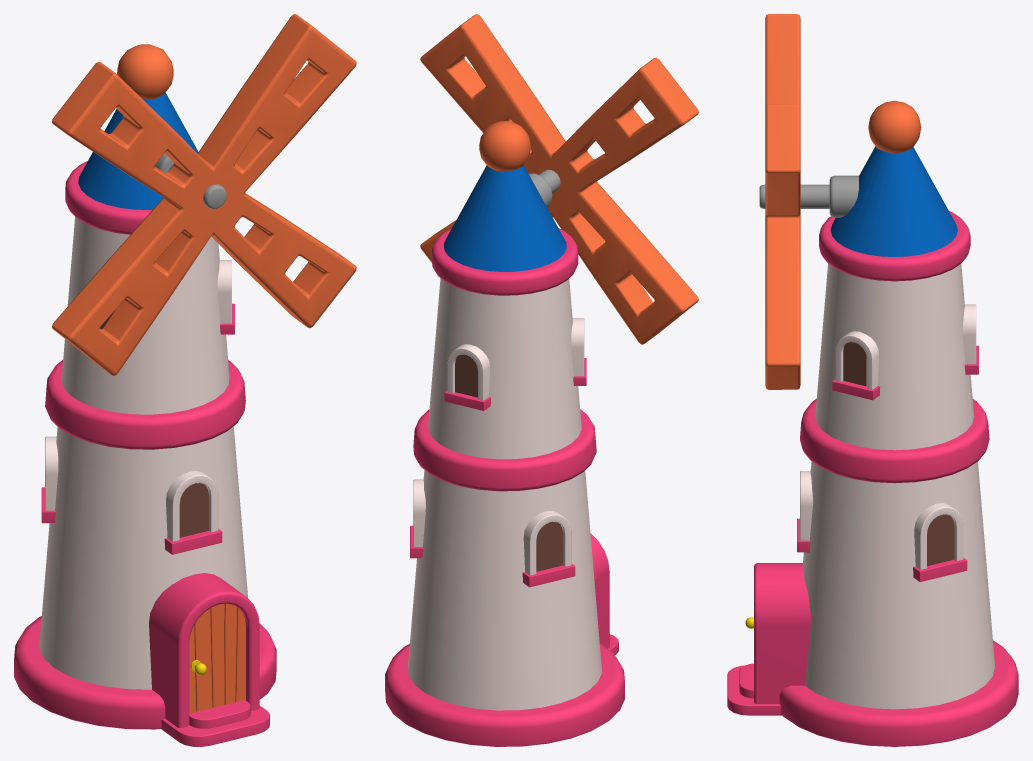
File: Farm_2_Mill_1.glb
The picture shows the model from 3 angles, left to right: view 1: azimuth 30°, elevation 25°; view 2: azimuth 150°, elevation 25°; view 3: azimuth 270°, elevation 25°; orthographic projection. The views are drawn at different scales.
Visible parts, largest first — view 1: Farm_2_Mill_1; view 2: Farm_2_Mill_1; view 3: Farm_2_Mill_1.
Part boxes in pixels (bbox=[...]): Farm_2_Mill_1: bbox=[14, 14, 356, 746]; Farm_2_Mill_1: bbox=[385, 14, 698, 746]; Farm_2_Mill_1: bbox=[727, 14, 1018, 746].
Bounding box in the file's own units: 5.59 × 12.46 × 5.17.
Materials: 1 (1 with a texture image).
